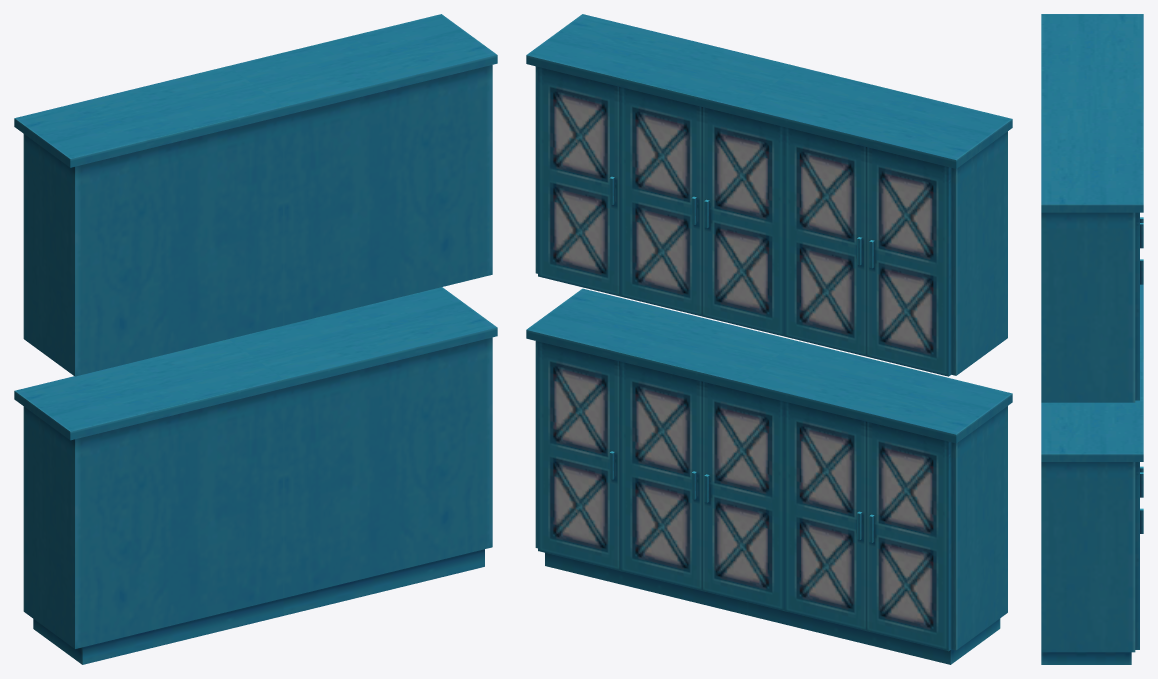
The model's file is furni_0200051_03.FBX.
3 renders of one model, left to right at view 1: azimuth 30°, elevation 25°; view 2: azimuth 150°, elevation 25°; view 3: azimuth 270°, elevation 25°, orthographic. The views are drawn at different scales.
Visible parts, largest first — view 1: furni_0200051; view 2: furni_0200051; view 3: furni_0200051.
Part boxes in pixels (x1,y1,x2,y2): furni_0200051: [14, 14, 497, 664]; furni_0200051: [526, 14, 1012, 664]; furni_0200051: [1041, 14, 1143, 664].
Size of the model in its own units: 246 by 280 by 55.9.
